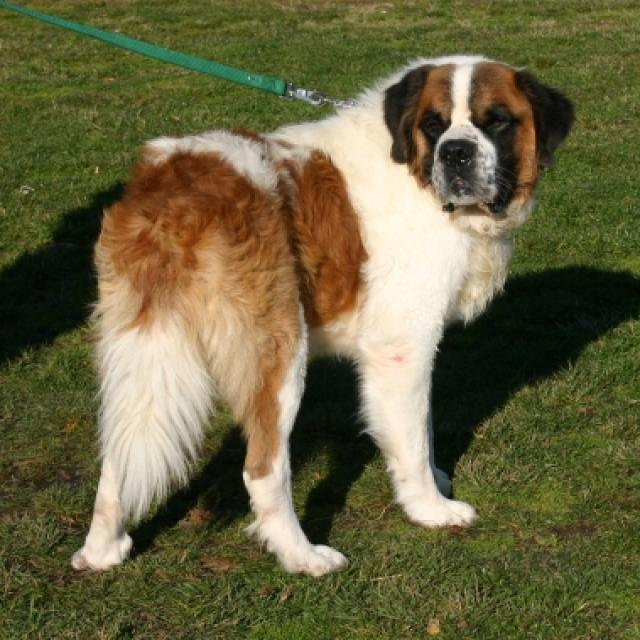Dogs: (67, 51, 576, 578)
